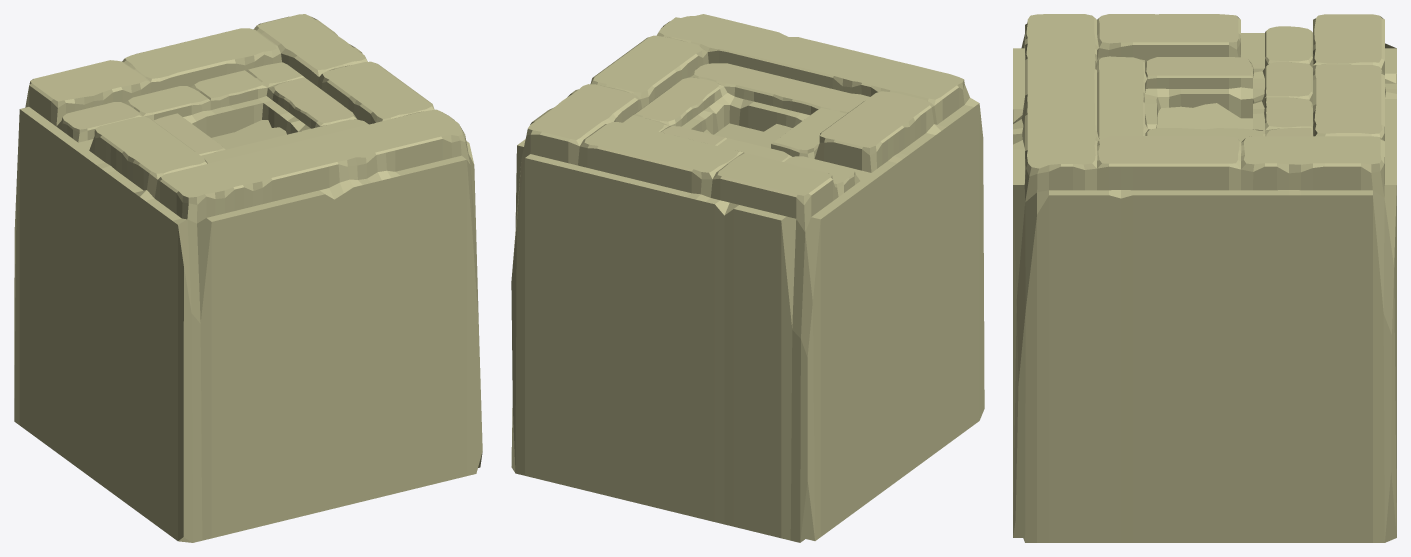
File: mazeblock_block1.fbx
3 views of the same model, side by side, from view 1: azimuth 30°, elevation 25°; view 2: azimuth 150°, elevation 25°; view 3: azimuth 270°, elevation 25° (orthographic). The views are drawn at different scales.
Visible parts, largest first — view 1: Cube; view 2: Cube; view 3: Cube.
Boxes of the visible parts, x1,y1,x2,y2 form: Cube: (14, 14, 482, 542); Cube: (511, 14, 984, 542); Cube: (1013, 14, 1396, 542).
Bounding box in the file's own units: 200 × 215 × 200.
